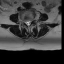CCS_normal: (27, 19, 29, 28)
LFS_stenosis: (31, 17, 33, 23)
LLS_normal: (29, 19, 31, 26)
RFS_normal: (23, 18, 25, 24)
RLS_normal: (25, 19, 27, 25)
